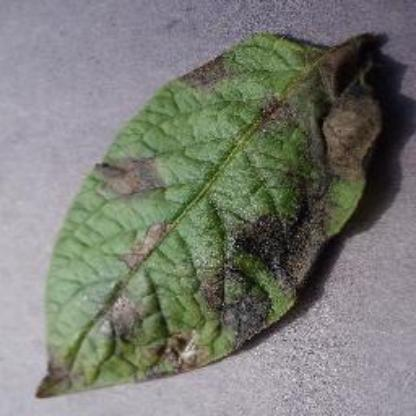Late-Blight: (35, 28, 395, 402)
